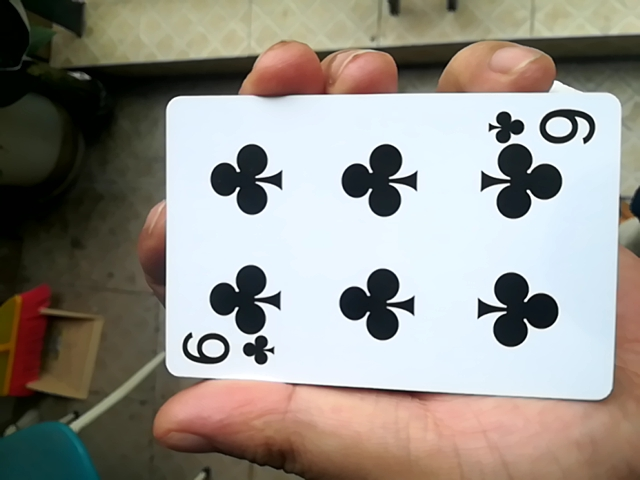mh 6: (141, 98, 622, 410)
